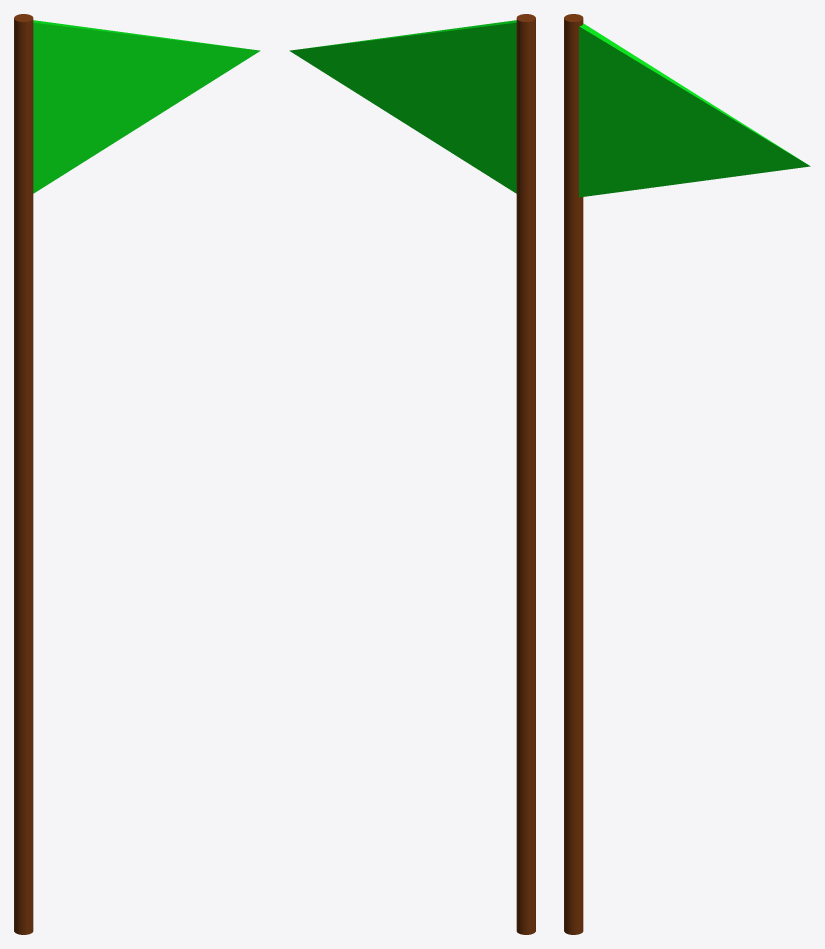
The model's file is banderaCheck.fbx.
3 renders of one model, left to right at view 1: azimuth 30°, elevation 25°; view 2: azimuth 150°, elevation 25°; view 3: azimuth 330°, elevation 25°, orthographic.
Parts seen in each view (by area): view 1: Cylinder; view 2: Cylinder; view 3: Cylinder.
Part boxes in pixels (x1=…): Cylinder: x1=14, y1=14, x2=260, y2=934; Cylinder: x1=289, y1=14, x2=535, y2=934; Cylinder: x1=564, y1=14, x2=810, y2=934.
Size of the model in its own units: 93.05 by 330 by 6.36.
